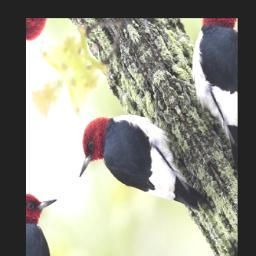Woodpecker: (58, 67, 221, 256)
